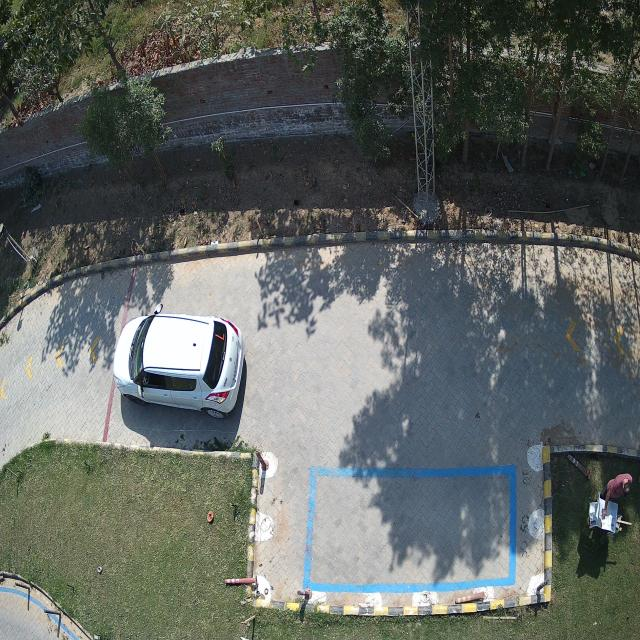car: (114, 305, 244, 418)
